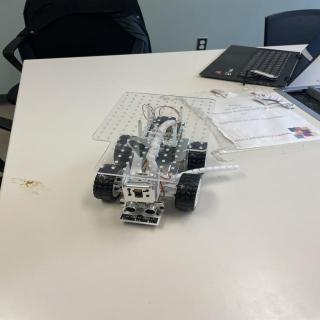vehicle: (92, 90, 218, 232)
